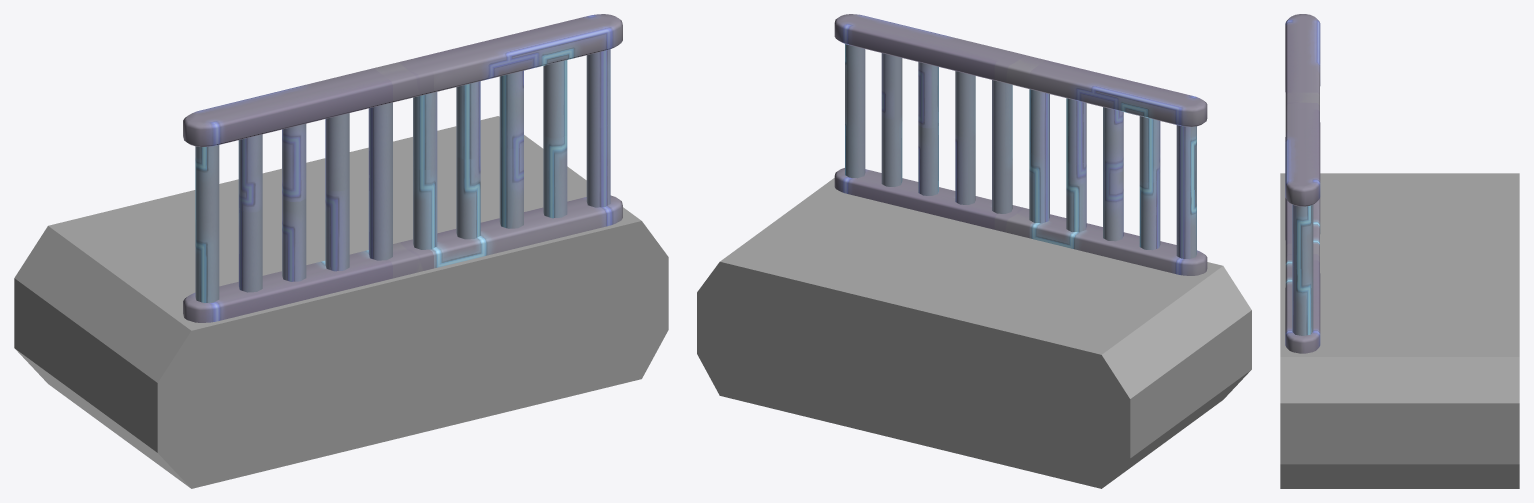
Rendered from ReactorCore_LowerPlatform.fbx.
3 views of the same model, side by side, from view 1: azimuth 30°, elevation 25°; view 2: azimuth 150°, elevation 25°; view 3: azimuth 270°, elevation 25° (orthographic). The views are drawn at different scales.
Parts seen in each view (by area): view 1: polySurface373; view 2: polySurface373; view 3: polySurface373.
Part boxes in pixels (x1,y1,x2,y2): polySurface373: (14,14,668,488); polySurface373: (697,14,1251,488); polySurface373: (1280,14,1519,488).
Size of the model in its own units: 2.06 by 1.36 by 1.
